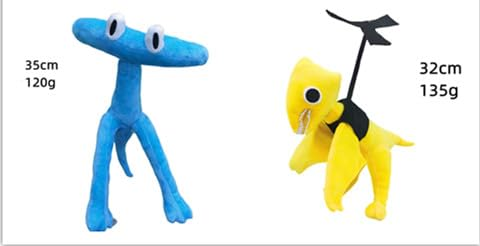1209: (26, 77, 55, 90)
1359: (420, 84, 458, 100)
32cm: (420, 62, 461, 74)
35cm: (25, 56, 58, 83)
